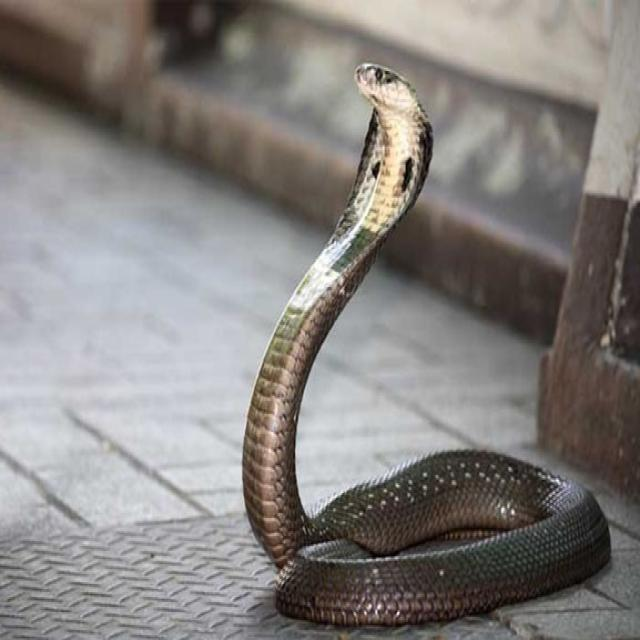Venomous: (333, 62, 439, 248)
